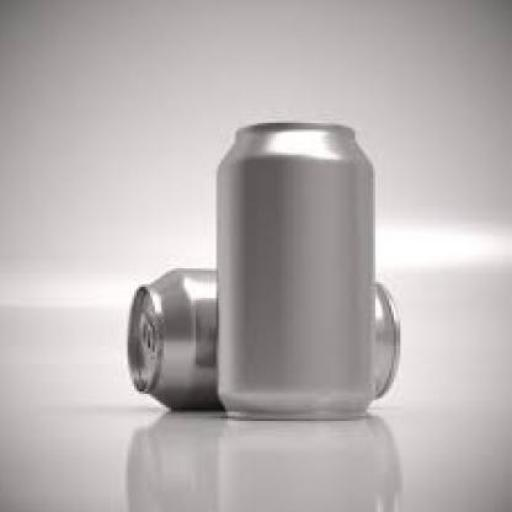metal: (218, 123, 376, 419), (127, 264, 403, 412)
